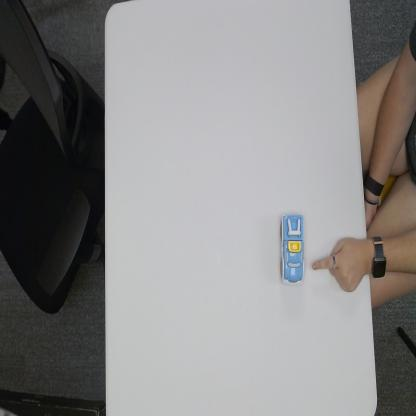Car: (277, 210, 306, 287)
Hand: (312, 233, 368, 297)
